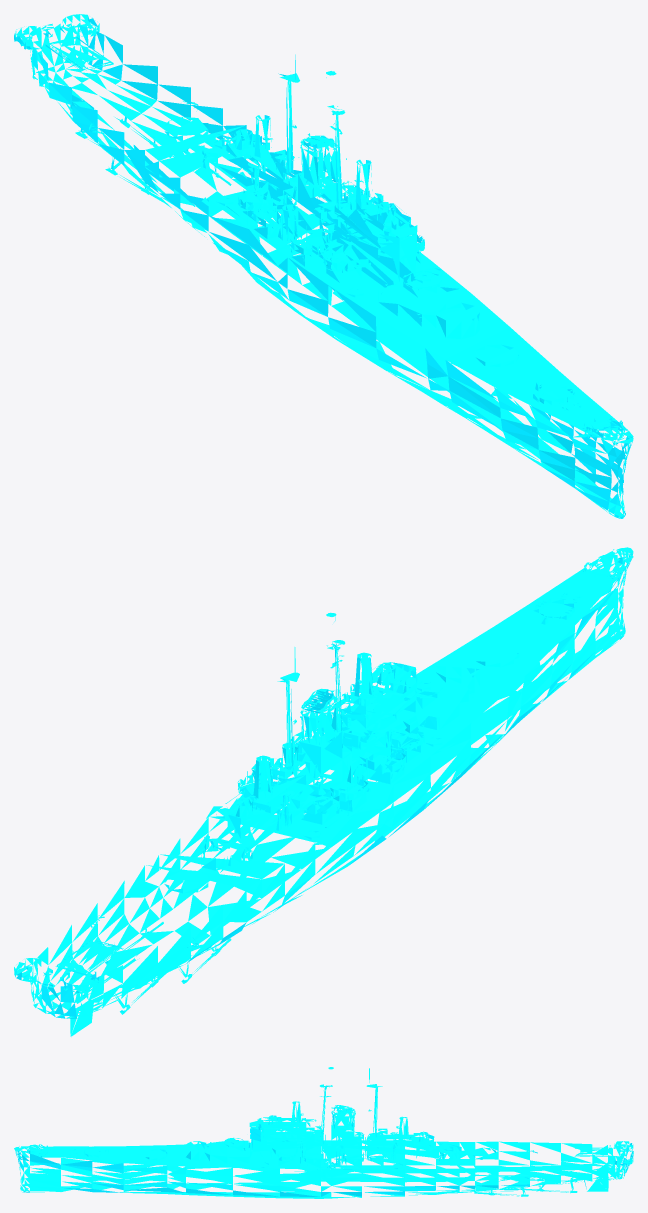
Rendered from Salem.glb.
3 renders of one model, top to bottom at view 1: azimuth 30°, elevation 25°; view 2: azimuth 150°, elevation 25°; view 3: azimuth 270°, elevation 25°, orthographic. The views are drawn at different scales.
Size of the model in its own units: 1.73 by 3.23 by 14.54.
